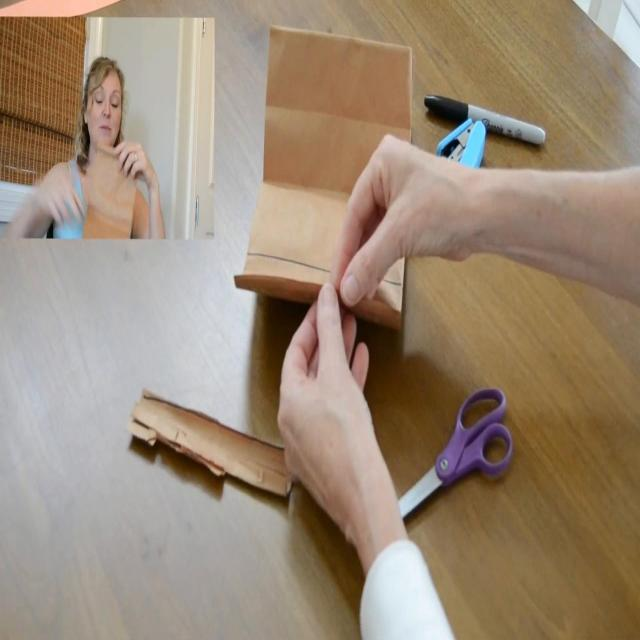scissor: (397, 385, 512, 519)
